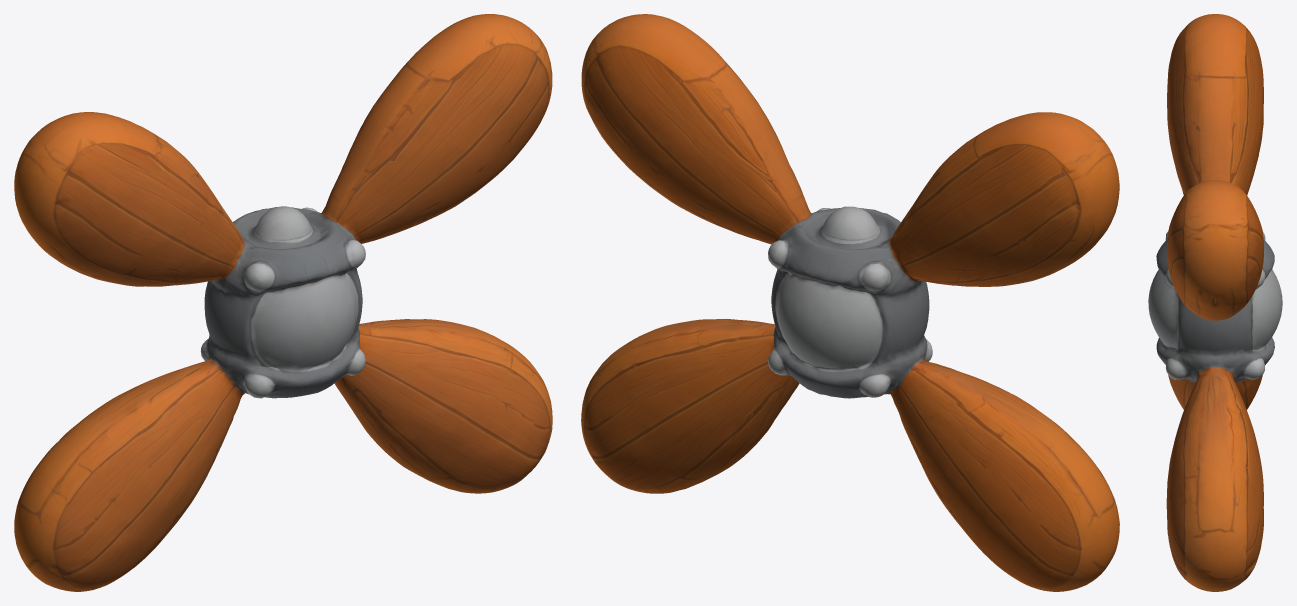
Rendered from FlightRaft_Propeller.fbx.
3 renders of one model, left to right at view 1: azimuth 30°, elevation 25°; view 2: azimuth 150°, elevation 25°; view 3: azimuth 270°, elevation 25°, orthographic. The views are drawn at different scales.
Parts seen in each view (by area): view 1: texture_mapping; view 2: texture_mapping; view 3: texture_mapping.
Boxes of the visible parts, x1,y1,x2,y2 form: texture_mapping: [14, 14, 552, 591]; texture_mapping: [581, 14, 1119, 591]; texture_mapping: [1148, 14, 1282, 591].
Bounding box in the file's own units: 0.9995 × 0.2603 × 0.8536.
Materials: 1 (1 with a texture image).
